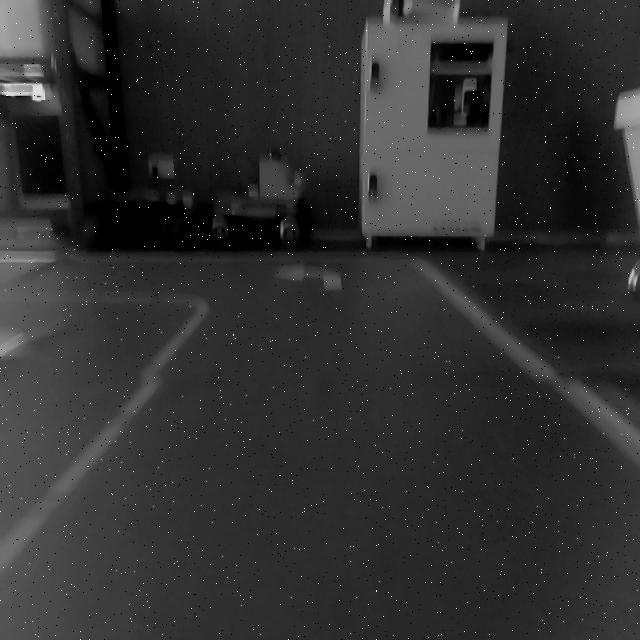left_lane: (0, 306, 217, 579)
right_lane: (416, 268, 640, 470)
